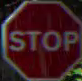Stop: (2, 1, 81, 80)
